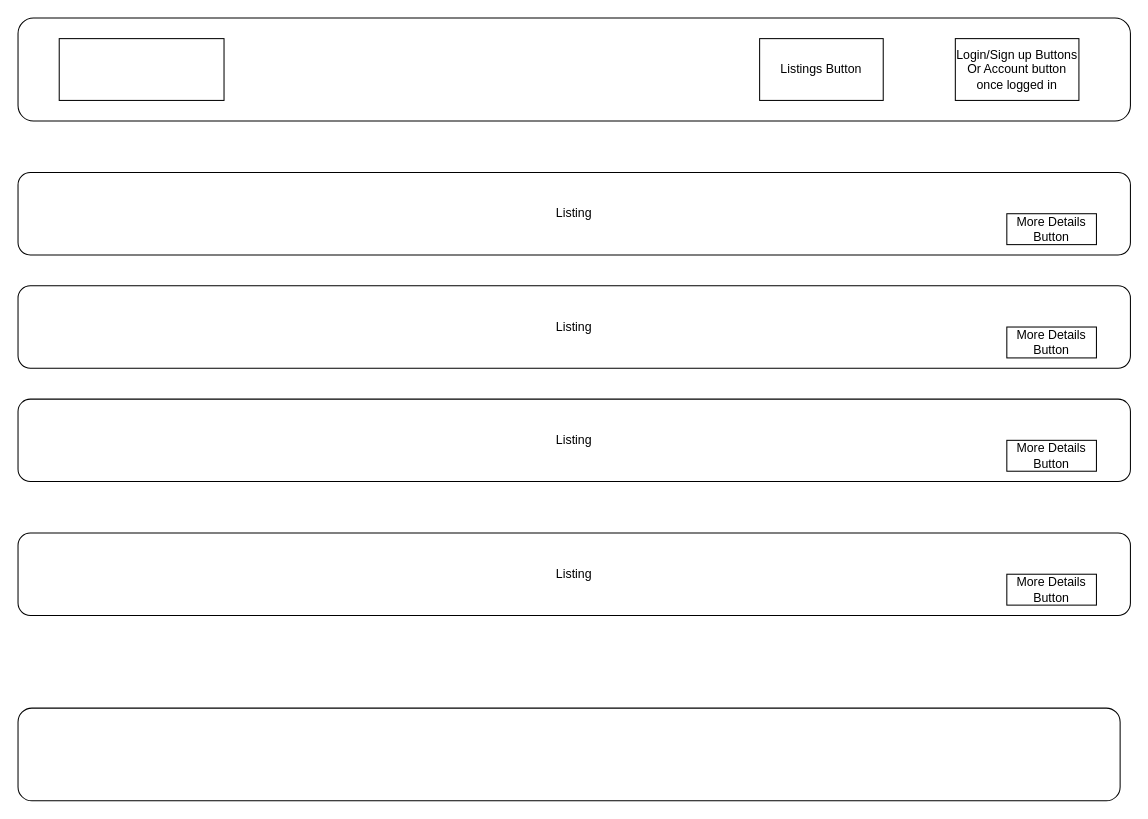
This 1148x819 diagram has some shape labels left out. Each missing label, with the box of its shape:
Footer containing contact information and socials: (17, 707, 1120, 801)
Product Logo: (58, 38, 224, 100)
